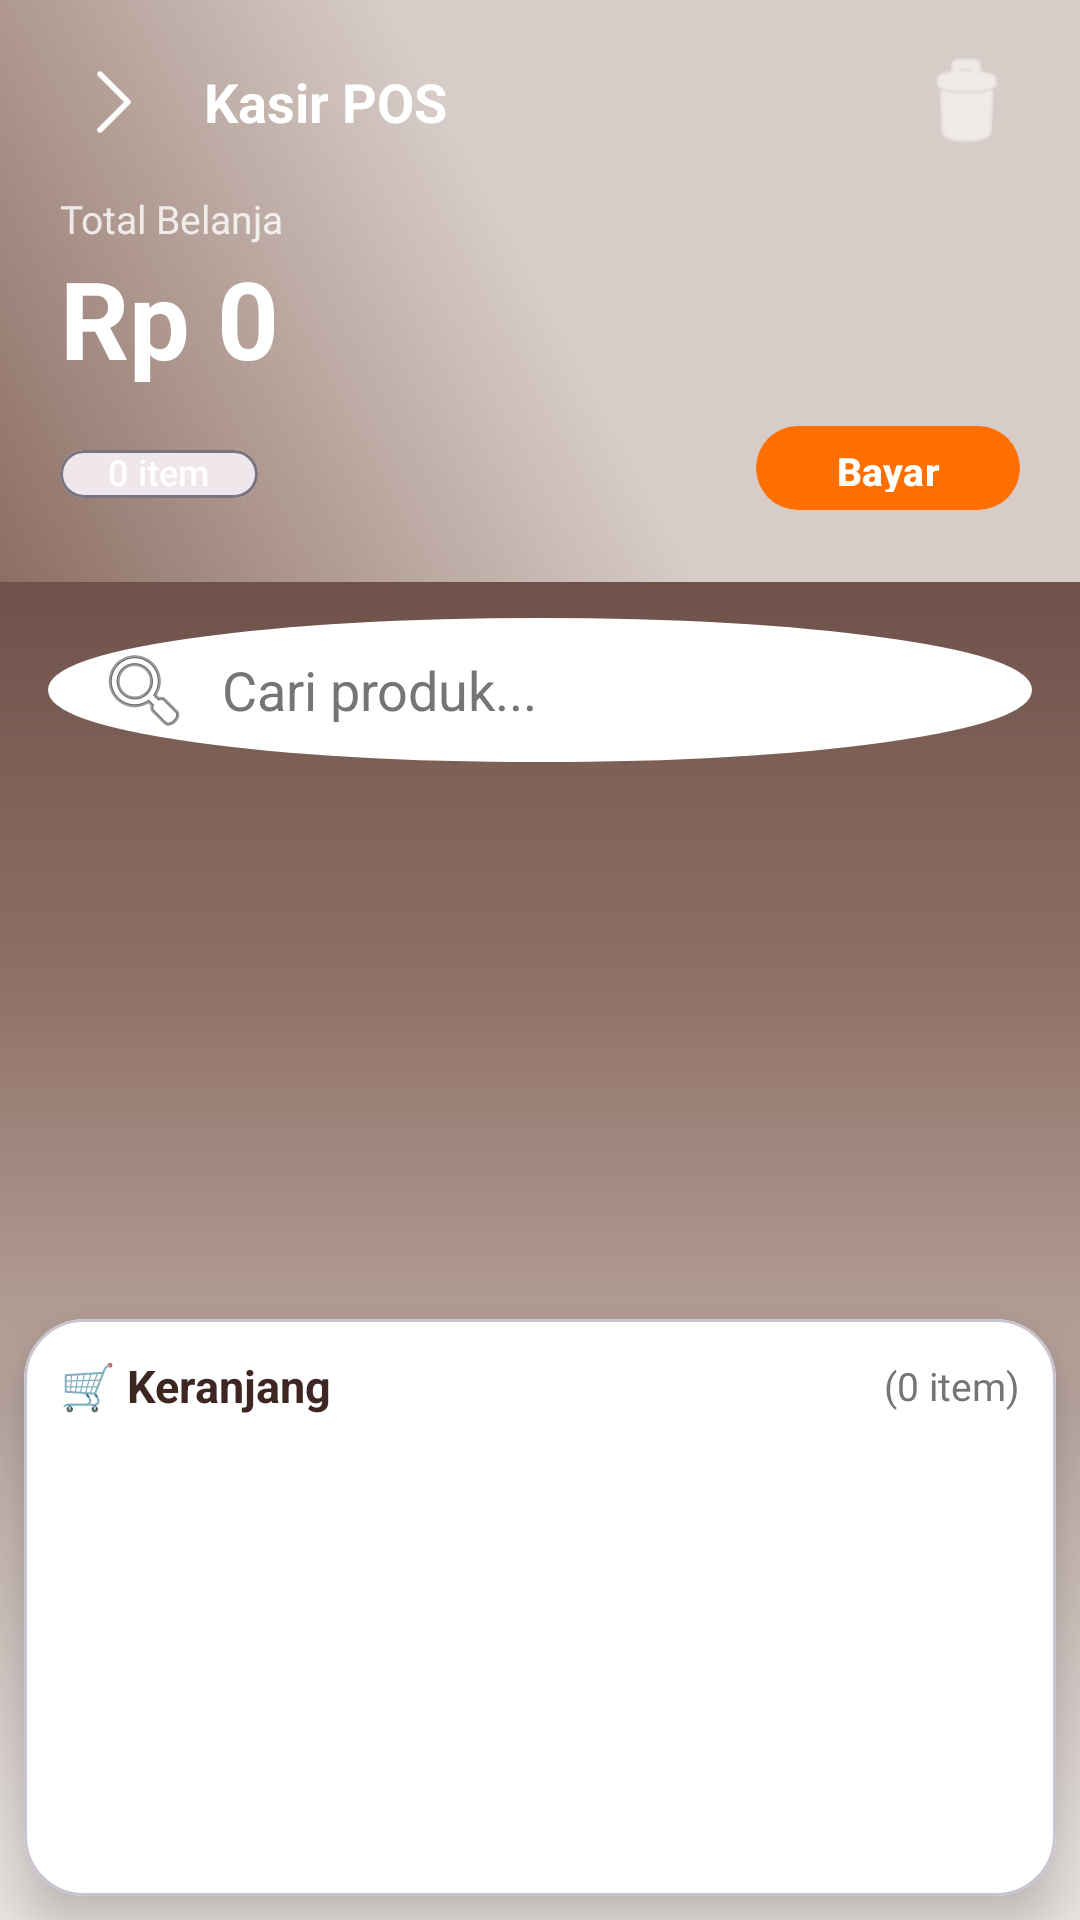

Icons on this 1080px x 1920px Android screen, each with the point to tap as [x,y]:
arrow: [114,102]
delete: [966,100]
